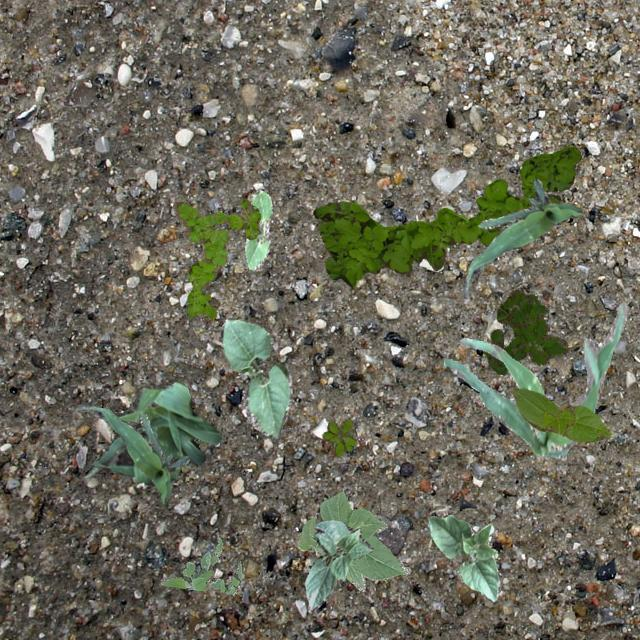crop: (442, 302, 626, 458), (81, 380, 220, 484), (462, 178, 582, 296), (74, 403, 188, 502), (298, 490, 410, 590), (220, 316, 290, 441), (426, 514, 501, 600), (304, 520, 372, 612), (510, 386, 610, 442), (244, 188, 272, 270)
weed: (312, 144, 580, 286), (172, 198, 260, 318), (482, 288, 568, 374), (158, 534, 242, 594), (322, 418, 356, 456)
